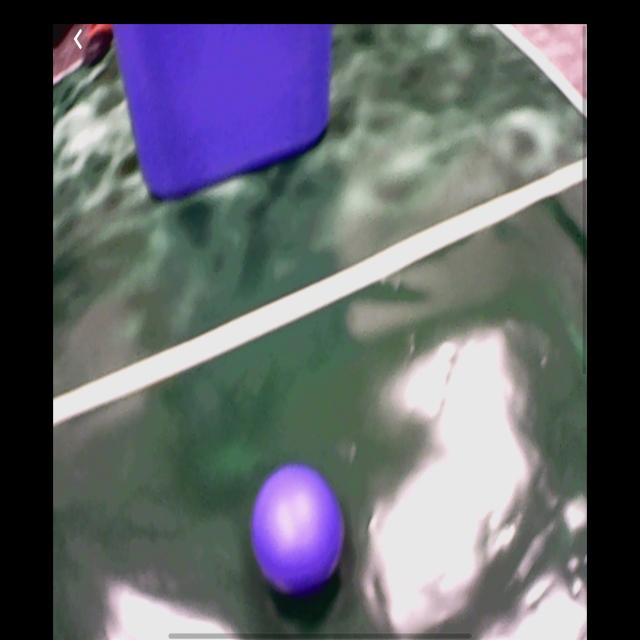ball: (252, 465, 346, 593)
